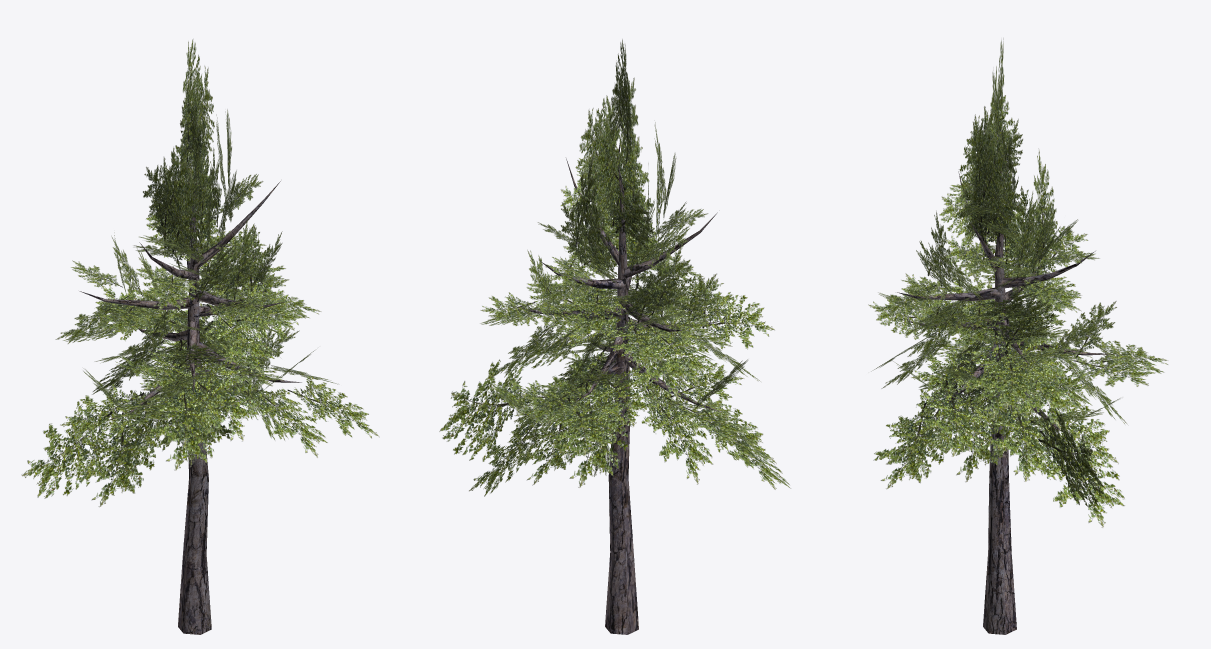
Rendered from alpine_fir.glb.
The picture shows the model from 3 angles, left to right: view 1: azimuth 30°, elevation 25°; view 2: azimuth 150°, elevation 25°; view 3: azimuth 270°, elevation 25°; orthographic projection.
Parts seen in each view (by area): view 1: AlpineTreeVariant; view 2: AlpineTreeVariant; view 3: AlpineTreeVariant.
Boxes of the visible parts, x1,y1,x2,y2 form: AlpineTreeVariant: [21, 39, 379, 634]; AlpineTreeVariant: [439, 39, 790, 634]; AlpineTreeVariant: [868, 38, 1168, 634].
Bounding box in the file's own units: 9.91 × 17.25 × 9.04.
2 materials, 2 textured.
